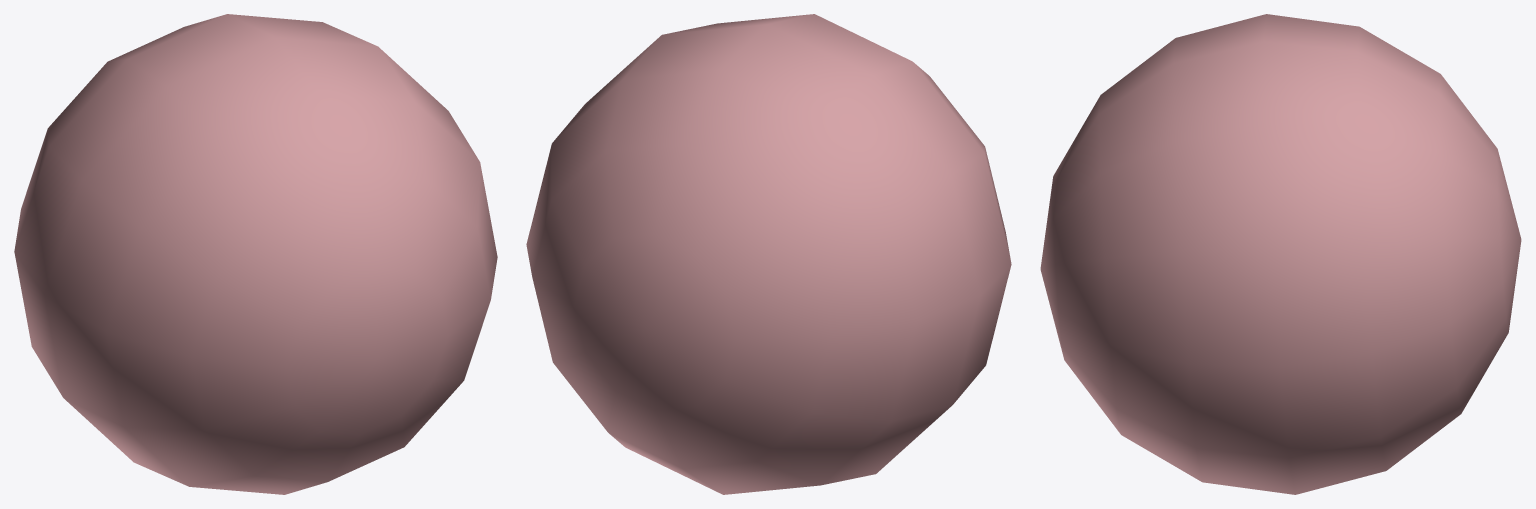
3 views of the same model, side by side, from view 1: azimuth 30°, elevation 25°; view 2: azimuth 150°, elevation 25°; view 3: azimuth 270°, elevation 25° (orthographic).
Parts seen in each view (by area): view 1: ZA_511e018a70e099f4; view 2: ZA_511e018a70e099f4; view 3: ZA_511e018a70e099f4.
Part boxes in pixels (x1,y1,x2,y2): ZA_511e018a70e099f4: (14,14,497,494); ZA_511e018a70e099f4: (526,14,1011,494); ZA_511e018a70e099f4: (1040,14,1521,494).
Bounding box in the file's own units: 0.0026 × 0.00259 × 0.00259.
